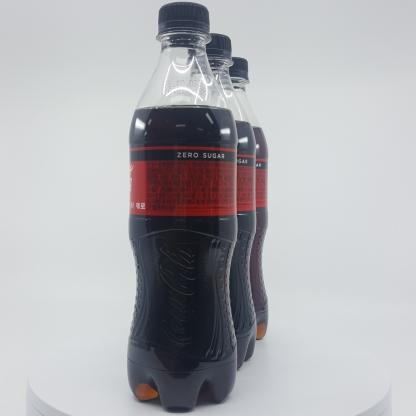------500ML: (127, 2, 238, 413)
